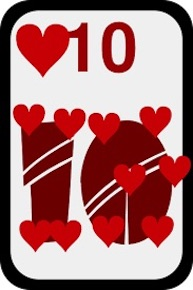TenOfHearts: (3, 3, 191, 275)
